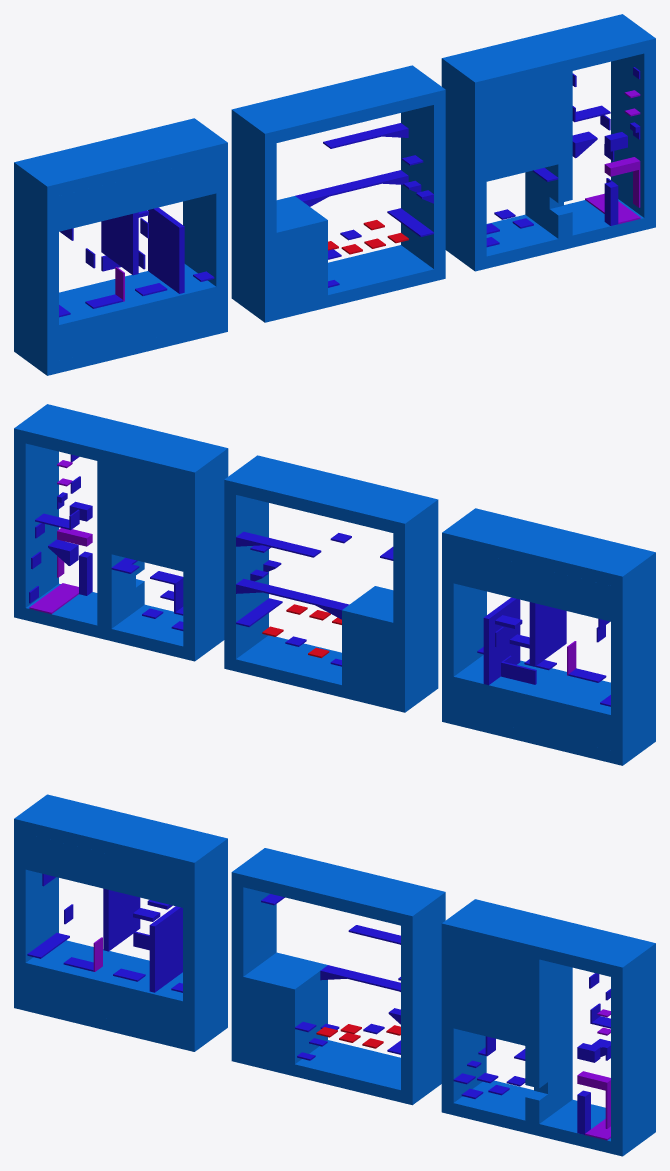
The model's file is FaceTODAS.glb.
3 views of the same model, one above another, from view 1: azimuth 30°, elevation 25°; view 2: azimuth 150°, elevation 25°; view 3: azimuth 330°, elevation 25° (orthographic).
Visible parts, largest first — view 1: Plano.001-col.002, PlanoFundo-col, Plano.001-col.001, plataforma_fundo-col.004, plataforma_fundo-col.007, plataforma_frente-col.021, plataforma_frente-col.024, plataforma_frente.001-col.002, plataforma_frente.001-col.001, plataforma_frente-col.014, plataforma_frente-col.007; view 2: Plano.001-col.002, PlanoFundo-col, Plano.001-col.001, plataforma_fundo-col.004, plataforma_fundo-col.007, plataforma_frente-col.021, plataforma_frente-col.024, plataforma_frente-col.007, plataforma_frente.001-col.002, plataforma_frente-col.033, plataforma_frente.001-col.001, plataforma_frente-col.014 (+1 smaller); view 3: PlanoFundo-col, Plano.001-col.002, Plano.001-col.001, plataforma_fundo-col.004, plataforma_fundo-col.007, plataforma_frente-col.021, plataforma_frente.001-col.002, plataforma_frente.001-col.001.
Part boxes in pixels (x1,y1,x2,y2): Plano.001-col.002: [14, 118, 227, 375]; PlanoFundo-col: [441, 14, 655, 271]; Plano.001-col.001: [231, 65, 445, 322]; plataforma_fundo-col.004: [148, 207, 184, 293]; plataforma_fundo-col.007: [101, 212, 138, 275]; plataforma_frente-col.021: [295, 170, 408, 206]; plataforma_frente-col.024: [323, 123, 408, 148]; plataforma_frente.001-col.002: [604, 157, 640, 207]; plataforma_frente.001-col.001: [604, 181, 618, 225]; plataforma_frente-col.014: [387, 208, 433, 236]; plataforma_frente-col.007: [585, 193, 640, 224]; Plano.001-col.002: [442, 508, 655, 765]; PlanoFundo-col: [14, 404, 228, 661]; Plano.001-col.001: [224, 455, 438, 712]; plataforma_fundo-col.004: [483, 597, 520, 685]; plataforma_fundo-col.007: [529, 602, 566, 666]; plataforma_frente-col.021: [236, 578, 349, 619]; plataforma_frente-col.024: [236, 531, 321, 557]; plataforma_frente-col.007: [29, 583, 78, 614]; plataforma_frente.001-col.002: [57, 528, 92, 577]; plataforma_frente-col.033: [501, 655, 536, 684]; plataforma_frente.001-col.001: [79, 551, 92, 595]; plataforma_frente-col.014: [236, 598, 282, 626]; PlanoFundo-col: [441, 899, 655, 1156]; Plano.001-col.002: [14, 794, 227, 1051]; Plano.001-col.001: [231, 848, 445, 1105]; plataforma_fundo-col.004: [149, 906, 182, 992]; plataforma_fundo-col.007: [103, 888, 140, 951]; plataforma_frente-col.021: [320, 965, 400, 991]; plataforma_frente.001-col.002: [577, 1071, 610, 1128]; plataforma_frente.001-col.001: [577, 1090, 590, 1134].
Size of the model in its own units: 1003 by 298 by 95.4.
